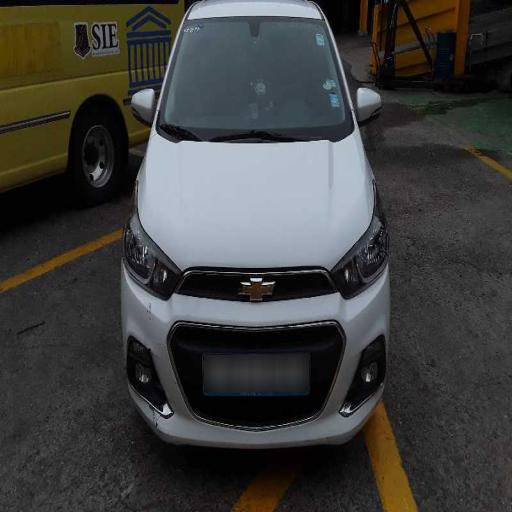normal: (112, 10, 412, 448)
